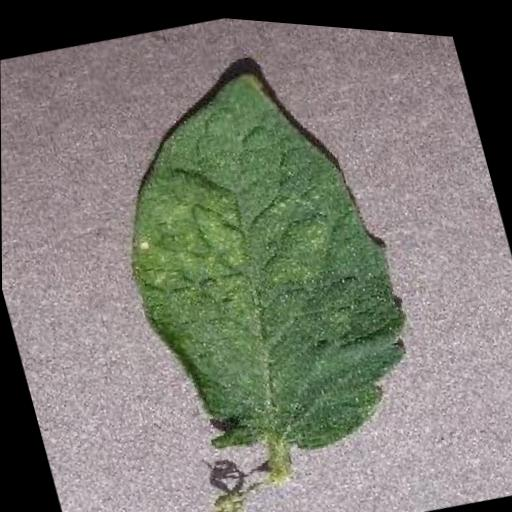Spider Mites: (83, 31, 433, 485)
